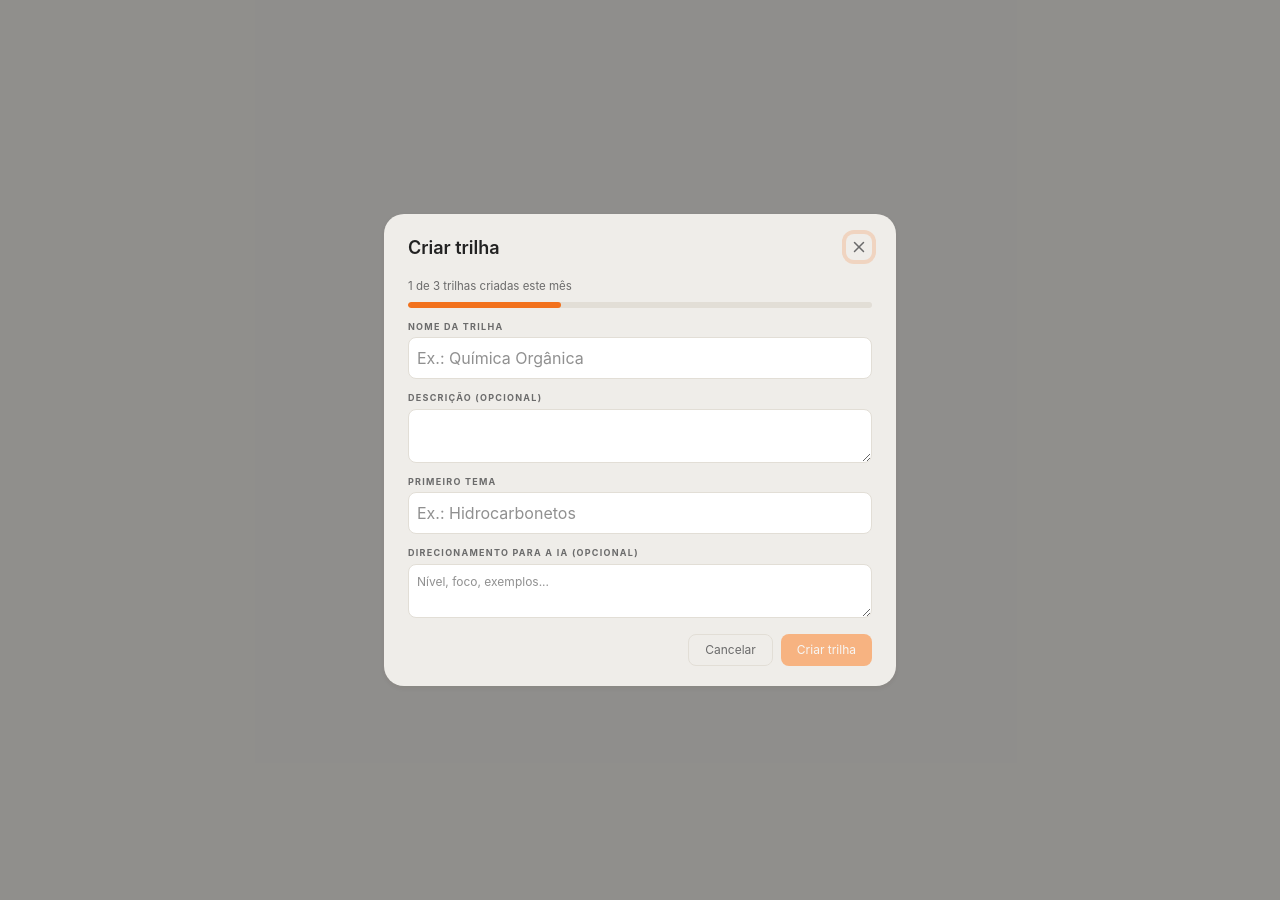
Test: CriarTrilhaModal › voltar devolve o formulário preenchido
This screenshot has width=1280, height=900.
Type "Química" into the field labelled "Nome da trilha" at {"x": 640, "y": 358}, box [408,337,872,379]
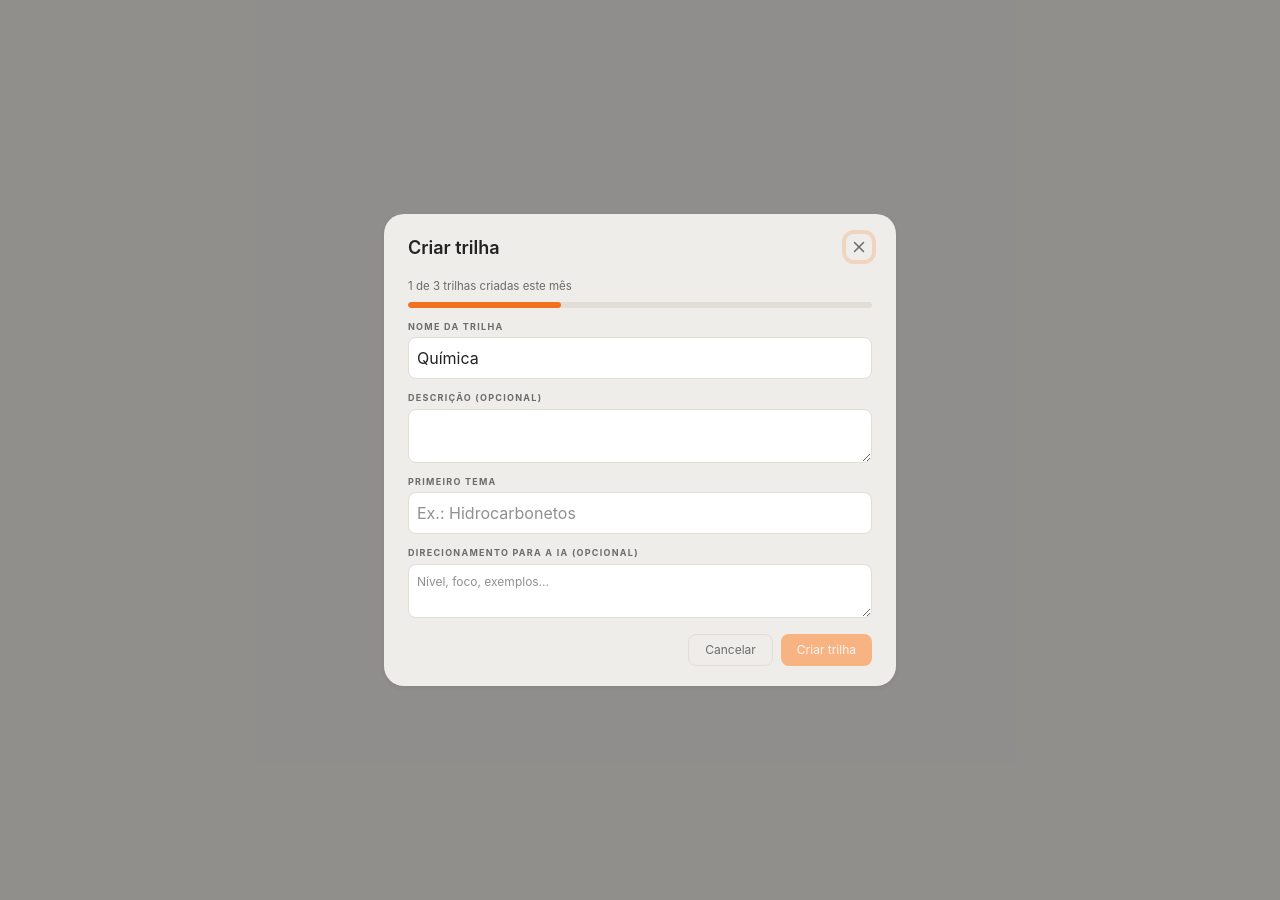
Type "Alcanos" into the field labelled "Primeiro tema" at {"x": 640, "y": 513}, box [408,492,872,534]
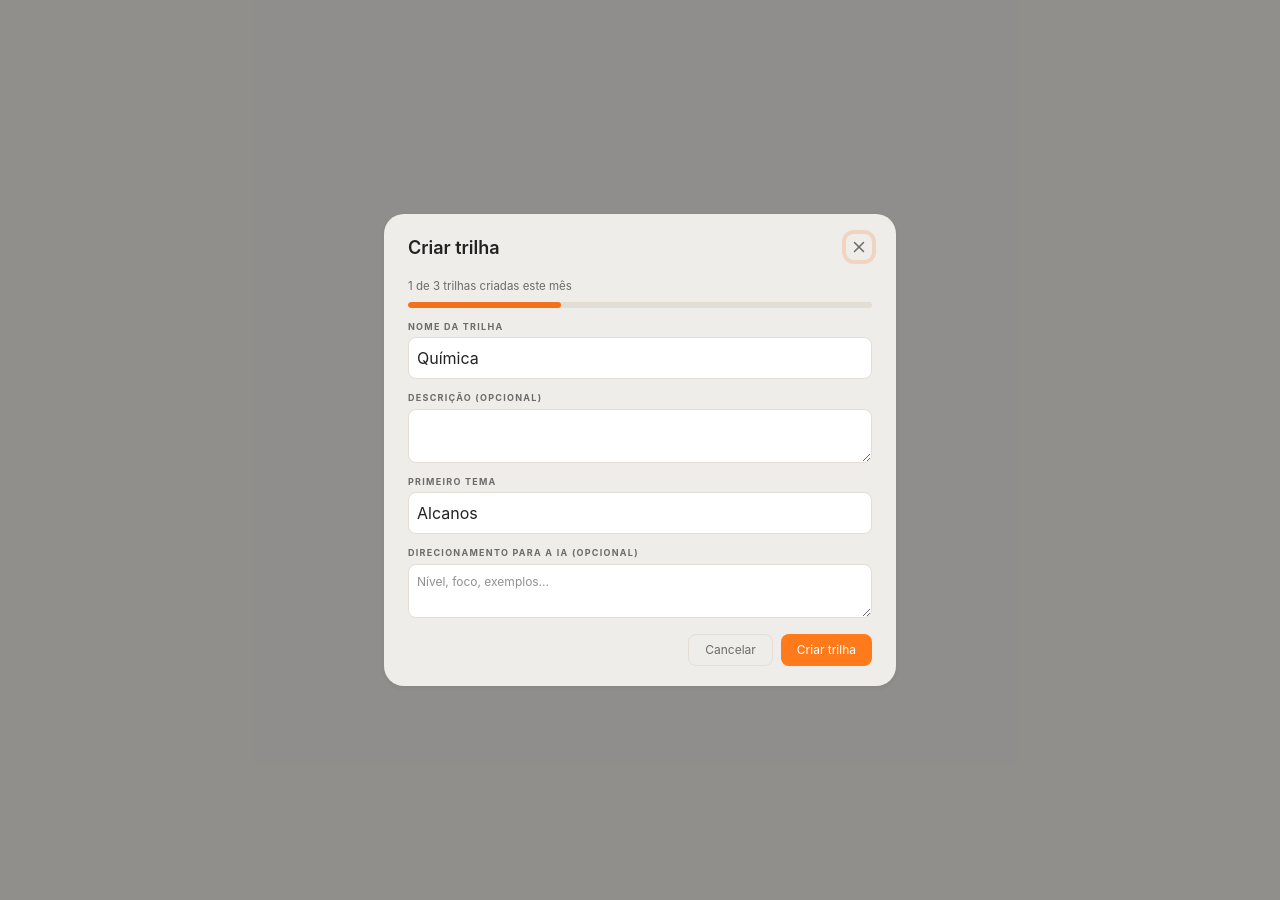
Click the button "Criar trilha" at {"x": 826, "y": 650}, box [781,634,872,666]
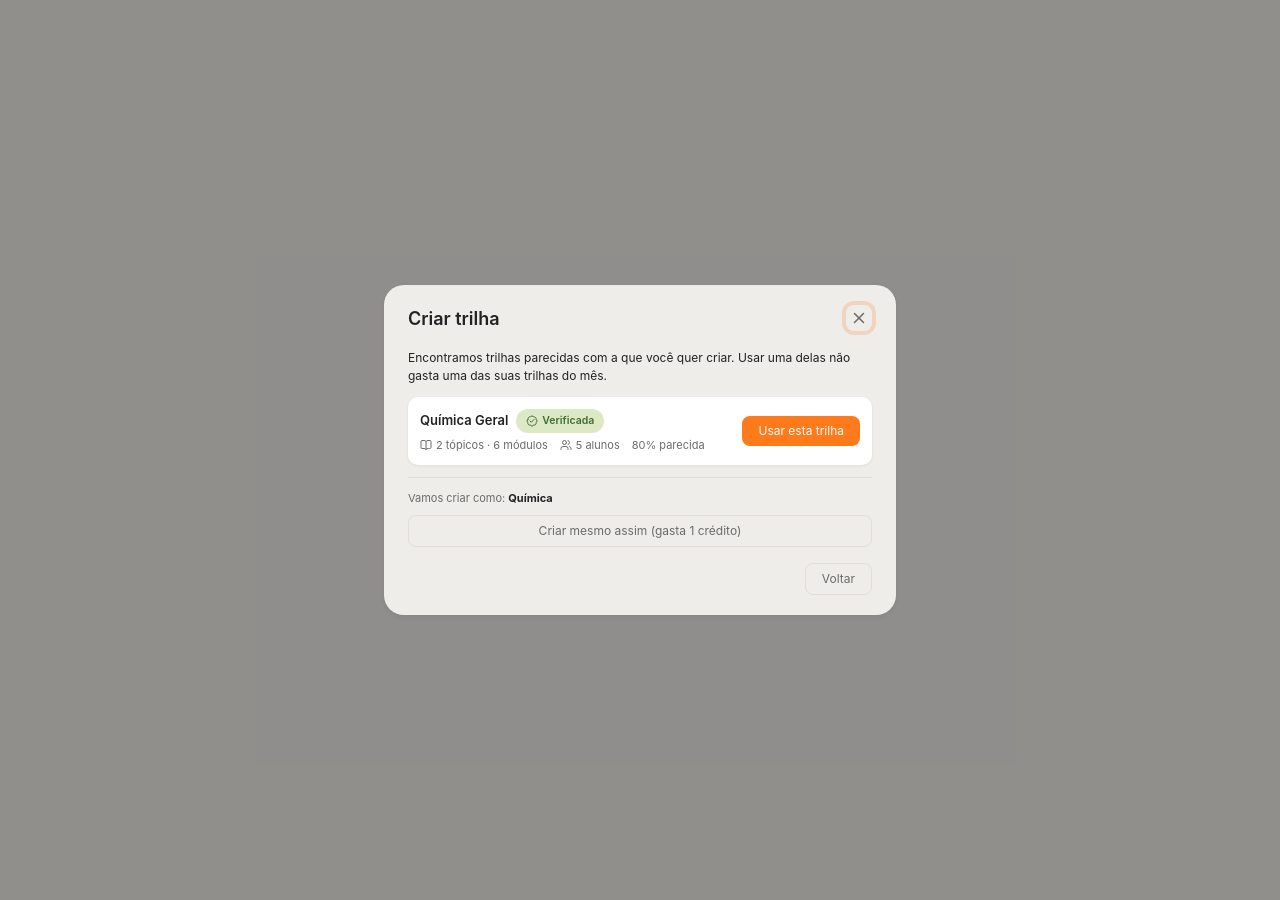
Expected: the text "Encontramos trilhas parecidas" is shown, [408,350,850,383]
Click the button "Voltar" at {"x": 838, "y": 579}, box [805,563,872,595]
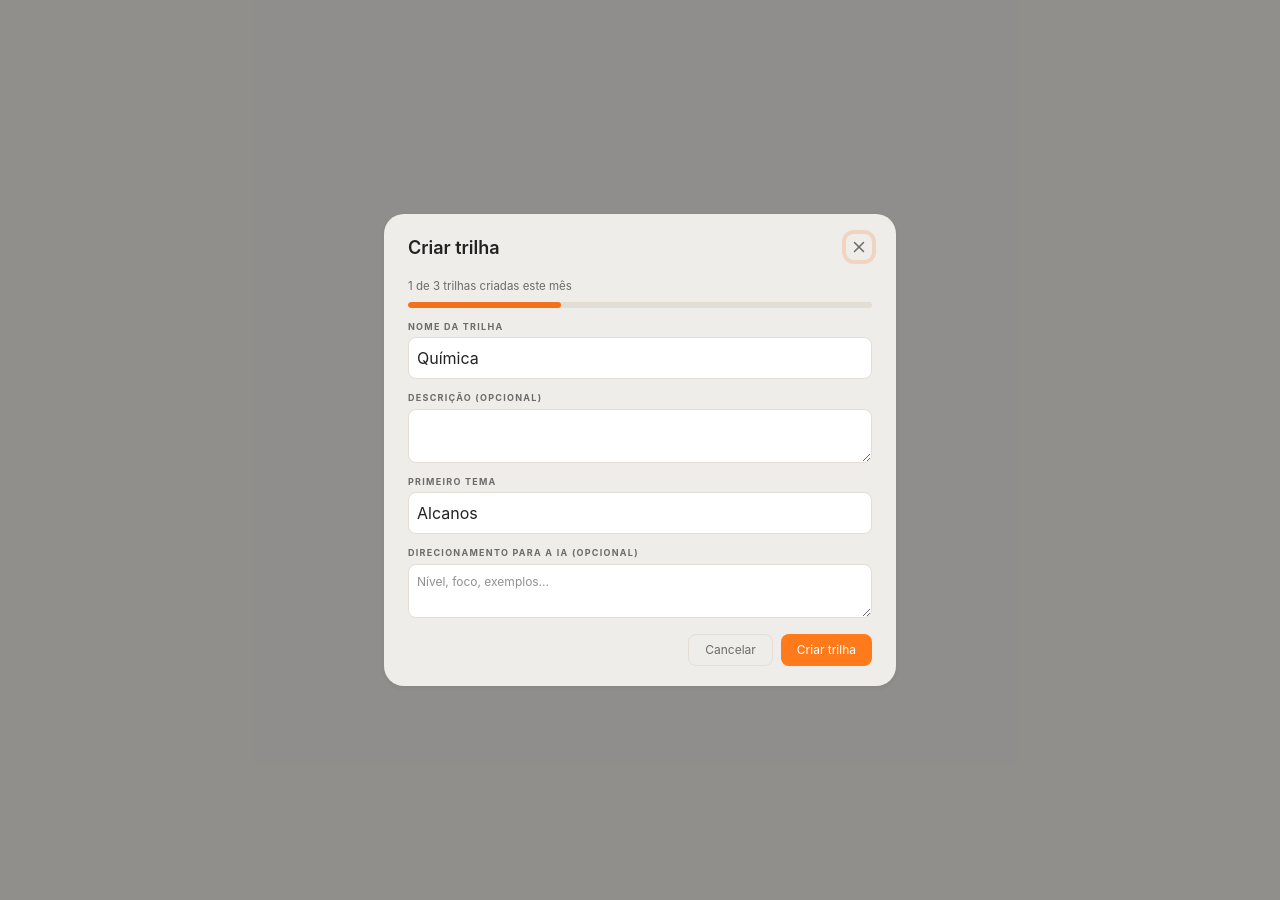
Expected: the field labelled "Nome da trilha" holds "Química", [408,337,872,379]
